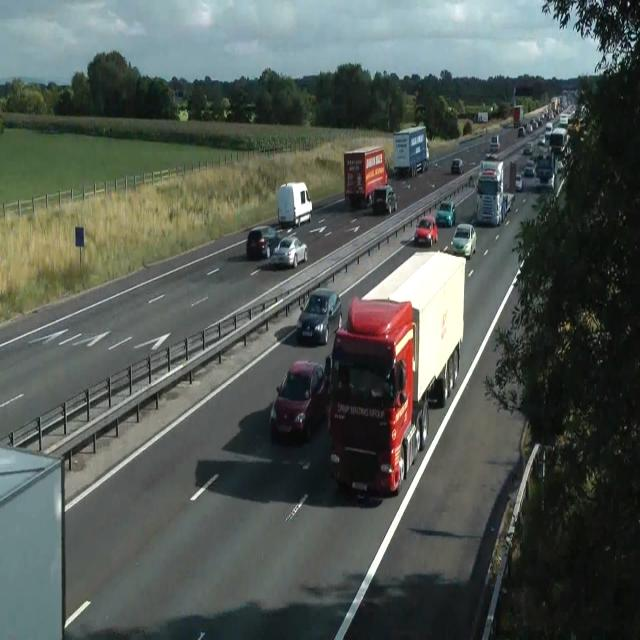bus: (296, 287, 342, 345), (246, 226, 280, 260), (272, 236, 308, 268), (451, 222, 477, 260), (414, 215, 438, 246), (435, 201, 455, 227), (523, 159, 535, 176), (451, 158, 463, 174), (490, 134, 500, 150), (515, 173, 523, 191), (523, 142, 533, 155), (556, 158, 564, 172), (518, 126, 524, 137)
jeep: (269, 358, 328, 444), (371, 183, 396, 214), (534, 154, 555, 189)
minibus: (326, 249, 466, 497), (343, 145, 388, 209), (476, 159, 516, 227), (393, 124, 429, 177), (276, 180, 312, 228), (513, 105, 524, 128), (550, 97, 560, 115), (474, 112, 488, 123)
